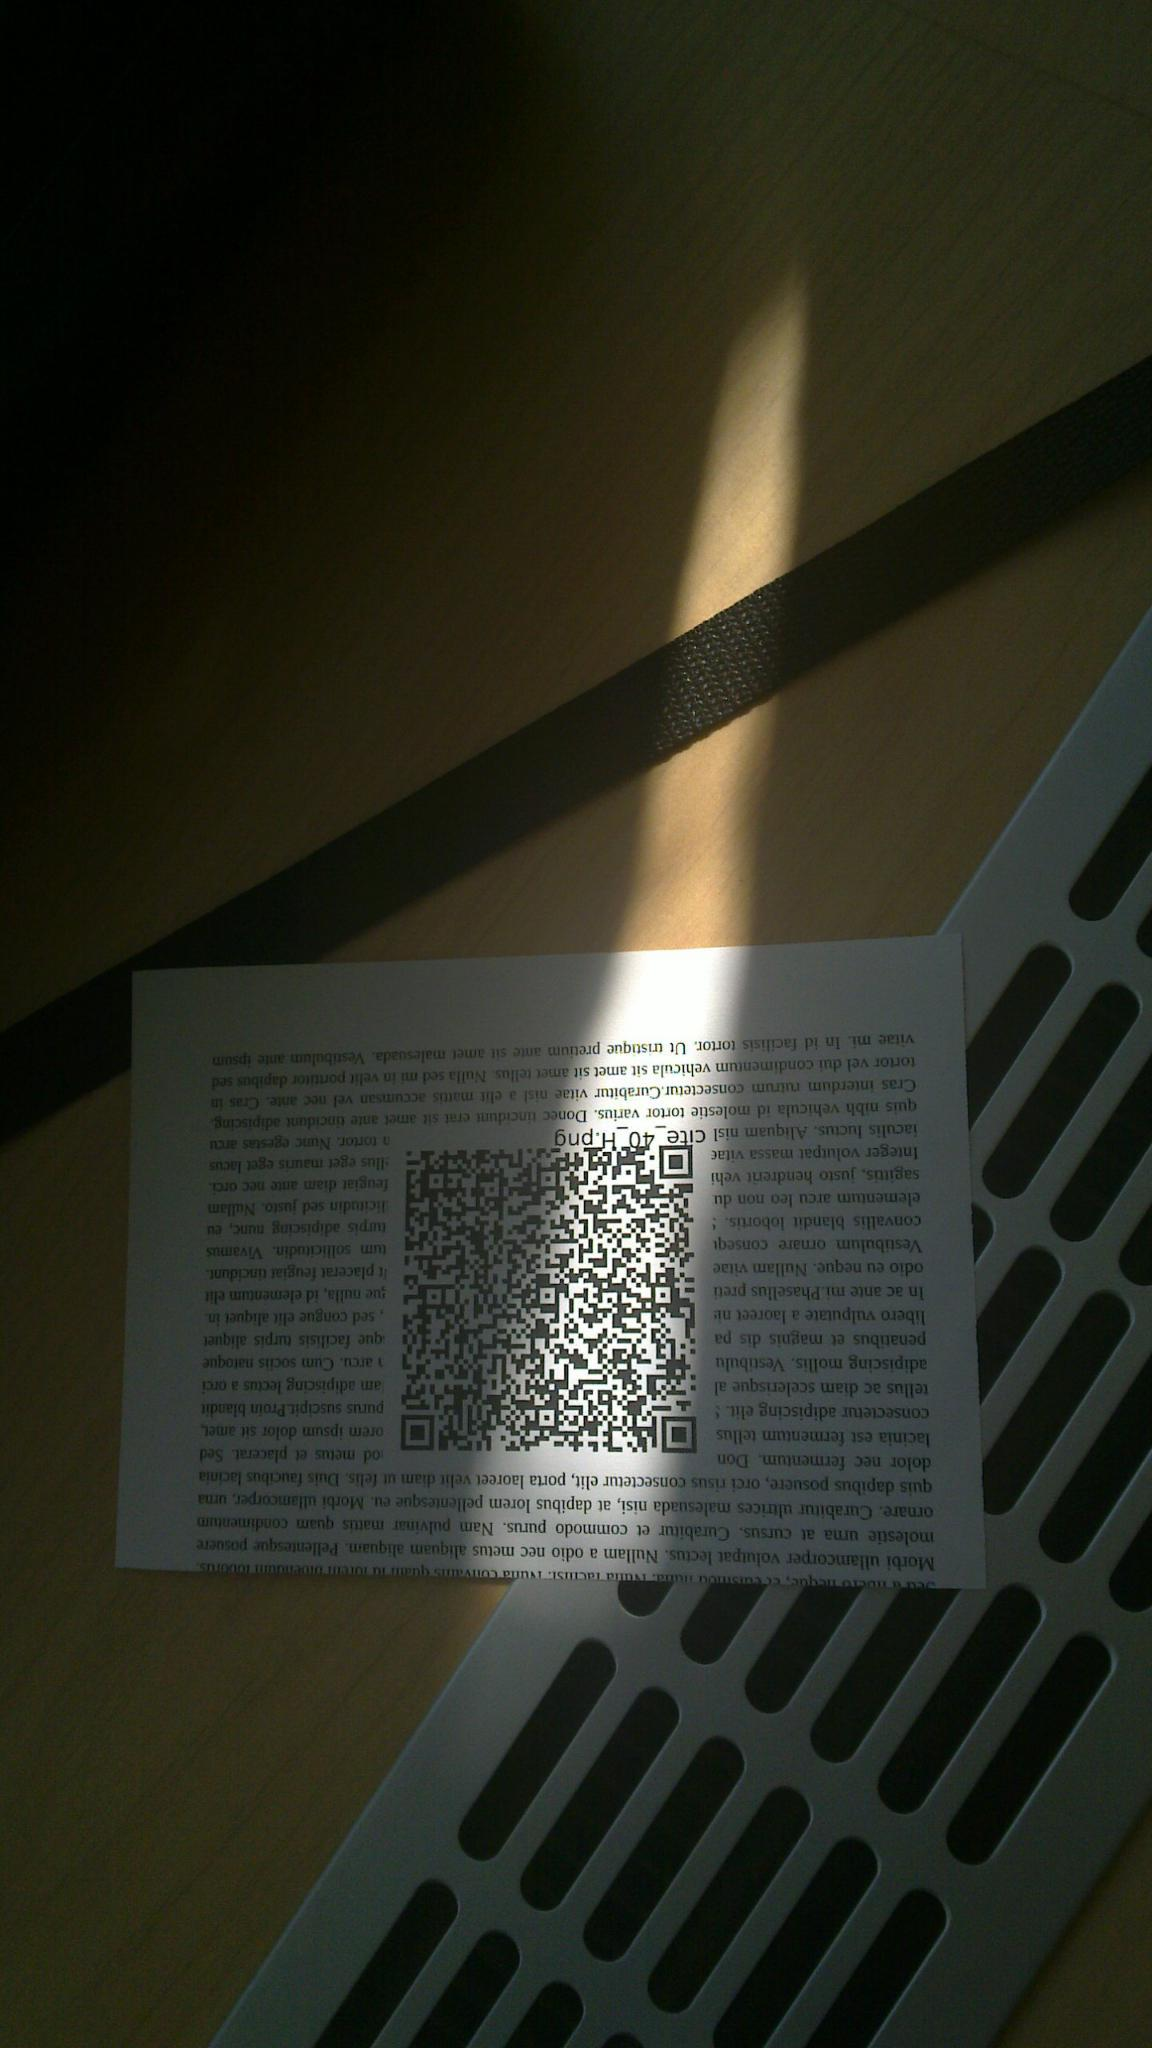Finder pattern: (391, 1408, 446, 1460), (654, 1408, 706, 1460), (653, 1137, 699, 1191)
